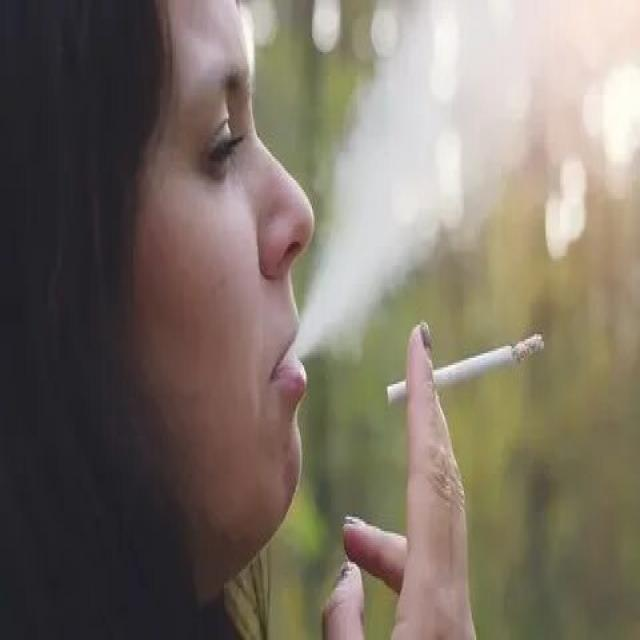smoke: (384, 325, 548, 415)
